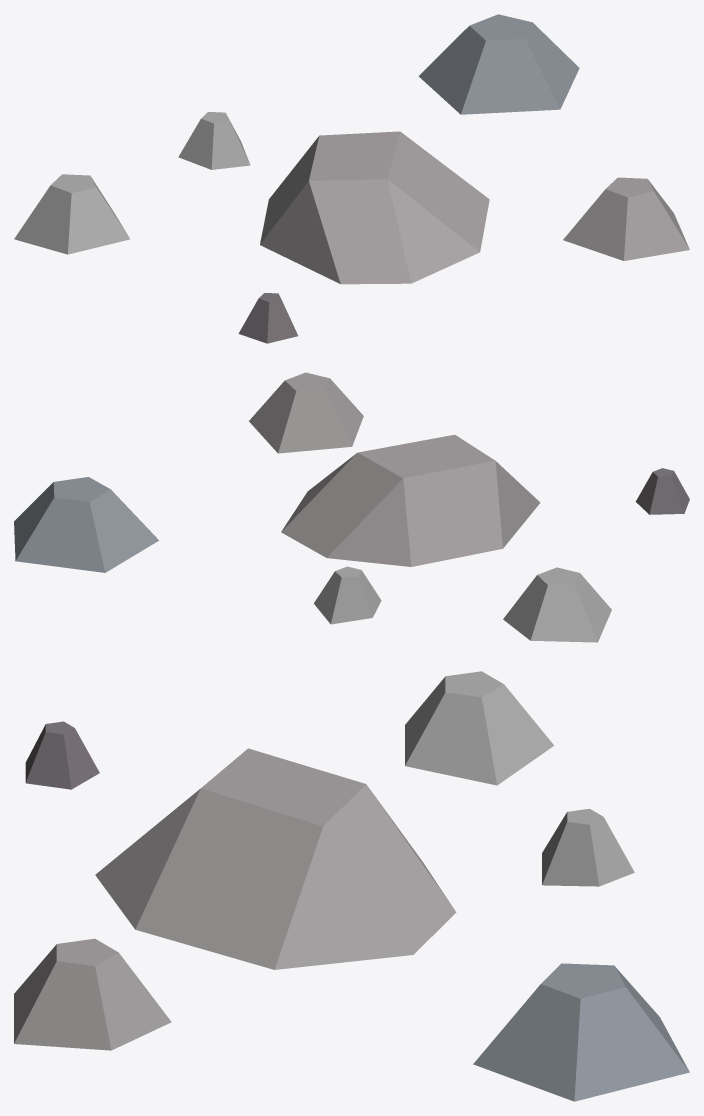
Rendered from Rocks_Round_s_02.fbx.
3 views of the same model, one above another, from view 1: azimuth 30°, elevation 25°; view 2: azimuth 150°, elevation 25°; view 3: azimuth 270°, elevation 25° (orthographic). The views are drawn at different scales.
Visible parts, largest first — view 1: Rocks_Round_s_02; view 2: Rocks_Round_s_02; view 3: Rocks_Round_s_02.
Boxes of the visible parts, <box> form: Rocks_Round_s_02: <box>14,14,689,343</box>; Rocks_Round_s_02: <box>14,372,689,642</box>; Rocks_Round_s_02: <box>14,671,689,1101</box>.
Size of the model in its own units: 0.5608 by 0.0696 by 0.4115.
